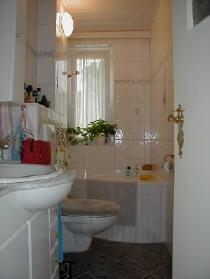Lavamanos: (0, 154, 69, 192)
